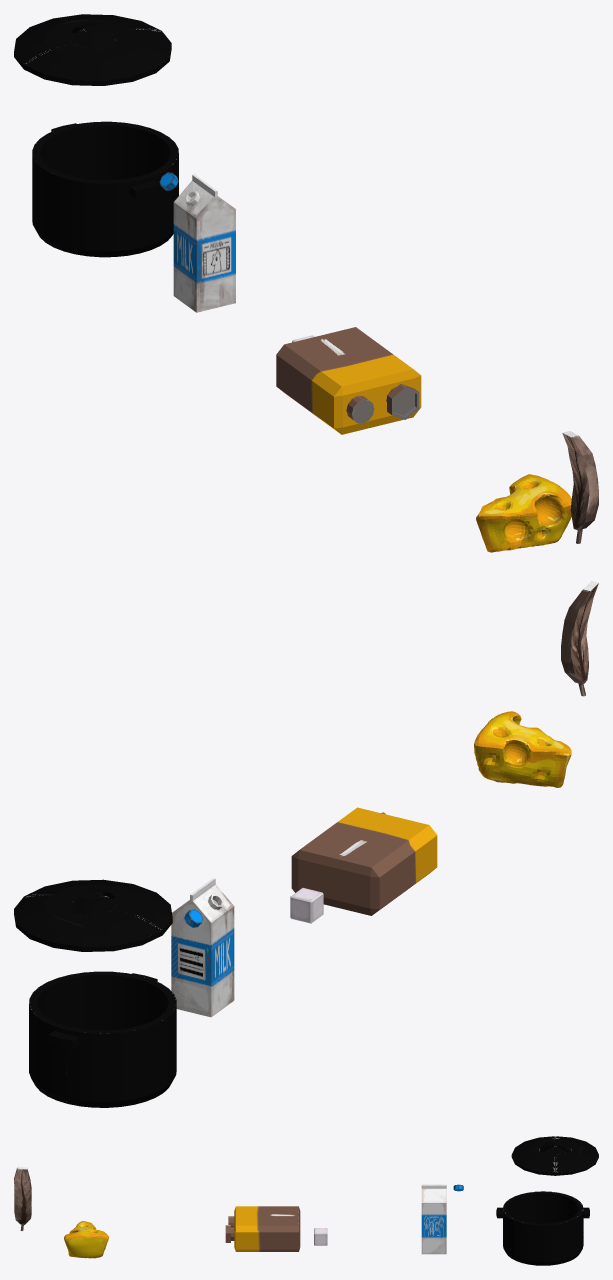
File: Props_RatFather_CheeseTOIPAD.obj
3 views of the same model, one above another, from view 1: azimuth 30°, elevation 25°; view 2: azimuth 150°, elevation 25°; view 3: azimuth 270°, elevation 25° (orthographic). The views are drawn at different scales.
Visible parts, largest first — view 1: Pot_Material.001, CarBattery_Material.002, PotLid_Material, MilkCarton_MilkCartonMAT, Cheese_Cheese_MAT, Feather_Material.003; view 2: Pot_Material.001, CarBattery_Material.002, PotLid_Material, MilkCarton_MilkCartonMAT, Cheese_Cheese_MAT, Feather_Material.003, SugarCube_SugarCubeMAT; view 3: Pot_Material.001, CarBattery_Material.002, PotLid_Material, MilkCarton_MilkCartonMAT, Cheese_Cheese_MAT, Feather_Material.003, SugarCube_SugarCubeMAT.
Boxes of the visible parts, box(x1,y1,x2,y2) form: Pot_Material.001: box(32, 121, 178, 257); CarBattery_Material.002: box(276, 327, 421, 434); PotLid_Material: box(14, 14, 171, 85); MilkCarton_MilkCartonMAT: box(173, 174, 235, 312); Cheese_Cheese_MAT: box(476, 474, 571, 552); Feather_Material.003: box(562, 431, 598, 543); Pot_Material.001: box(29, 971, 176, 1107); CarBattery_Material.002: box(291, 807, 437, 915); PotLid_Material: box(14, 879, 172, 951); MilkCarton_MilkCartonMAT: box(171, 878, 234, 1017); Cheese_Cheese_MAT: box(474, 711, 571, 787); Feather_Material.003: box(561, 581, 598, 696); SugarCube_SugarCubeMAT: box(290, 888, 323, 923); Pot_Material.001: box(496, 1191, 589, 1265); CarBattery_Material.002: box(225, 1206, 300, 1251); PotLid_Material: box(511, 1136, 598, 1175); MilkCarton_MilkCartonMAT: box(421, 1184, 446, 1254); Cheese_Cheese_MAT: box(64, 1221, 108, 1258); Feather_Material.003: box(14, 1166, 31, 1230); SugarCube_SugarCubeMAT: box(314, 1228, 327, 1245).
Bounding box in the file's own units: 4.29 × 6.03 × 28.77.
8 materials, 8 textured.
